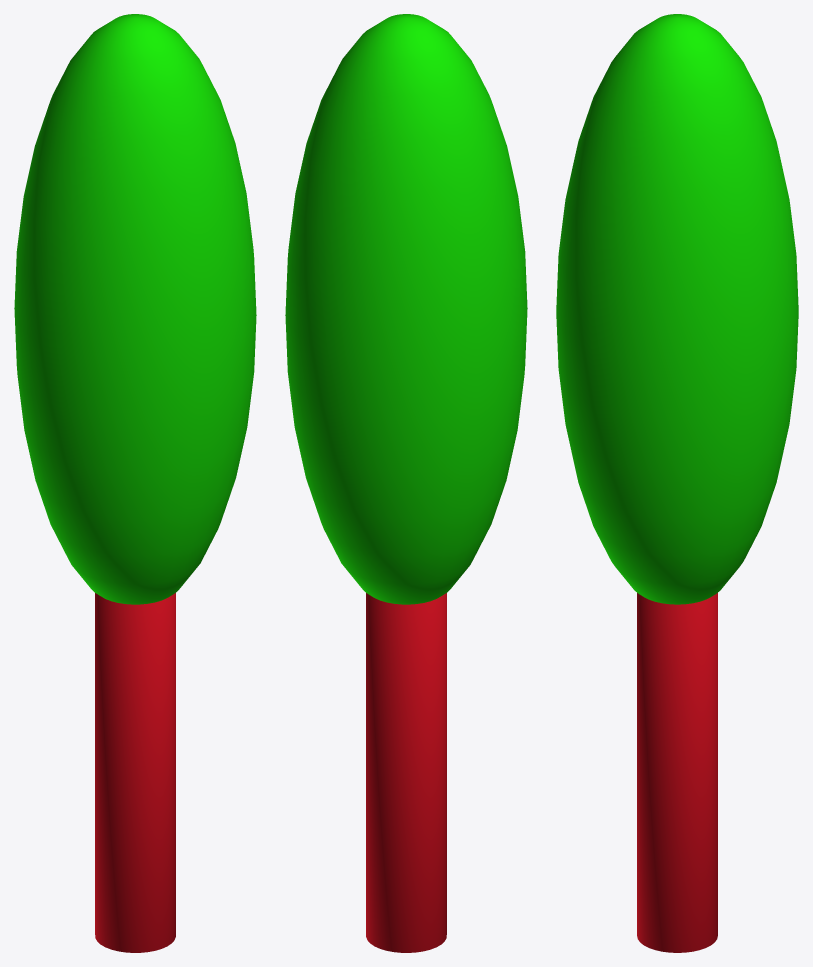
File: Tree_0.fbx
3 renders of one model, left to right at view 1: azimuth 30°, elevation 25°; view 2: azimuth 150°, elevation 25°; view 3: azimuth 270°, elevation 25°, orthographic.
Parts seen in each view (by area): view 1: Tree_1; view 2: Tree_1; view 3: Tree_1.
Boxes of the visible parts, left/top/right/bottom form: Tree_1: left=14, top=14, right=256, bottom=952; Tree_1: left=285, top=14, right=527, bottom=952; Tree_1: left=556, top=14, right=798, bottom=952.
Size of the model in its own units: 300 by 1252 by 300.
